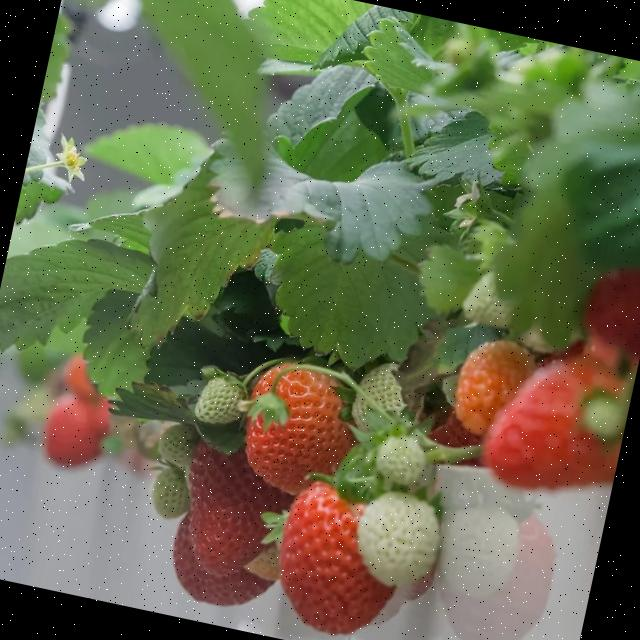Ripe Strawberry: (490, 345, 634, 520), (265, 493, 405, 640), (224, 348, 352, 488), (154, 433, 282, 573), (434, 316, 526, 432), (33, 368, 113, 478), (577, 266, 640, 352)
